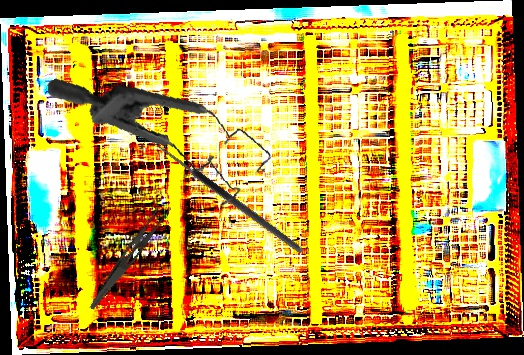Dressing Forceps: (88, 198, 174, 318)
Hook Surgical: (139, 134, 305, 262)
Speculum: (46, 50, 278, 228)
